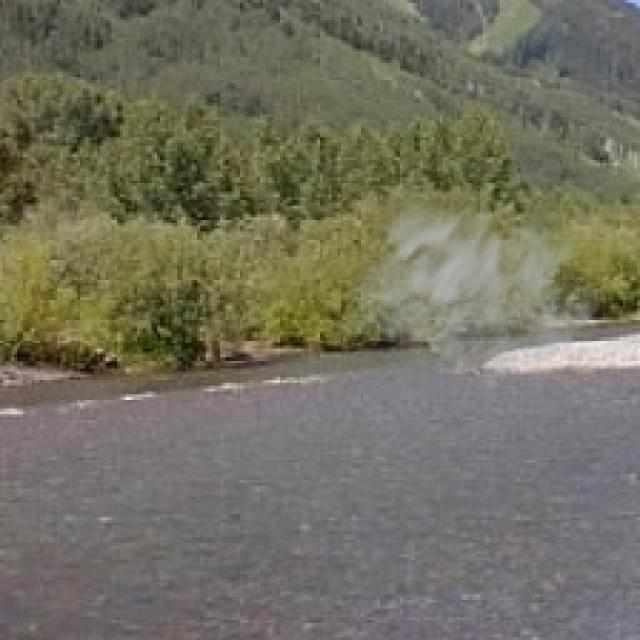smoke: (334, 163, 614, 391)
